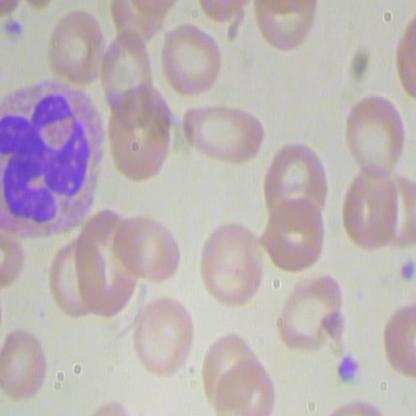Platelets: (333, 351, 363, 387), (3, 11, 26, 36), (397, 259, 415, 285)
RBC: (271, 263, 350, 353), (339, 89, 411, 185), (176, 98, 274, 167), (257, 191, 332, 277), (198, 218, 266, 309), (155, 21, 233, 98), (42, 6, 110, 94), (341, 160, 400, 257), (130, 291, 197, 375), (109, 216, 190, 285), (1, 321, 56, 406), (214, 354, 279, 415)
WBC: (1, 80, 109, 250)
